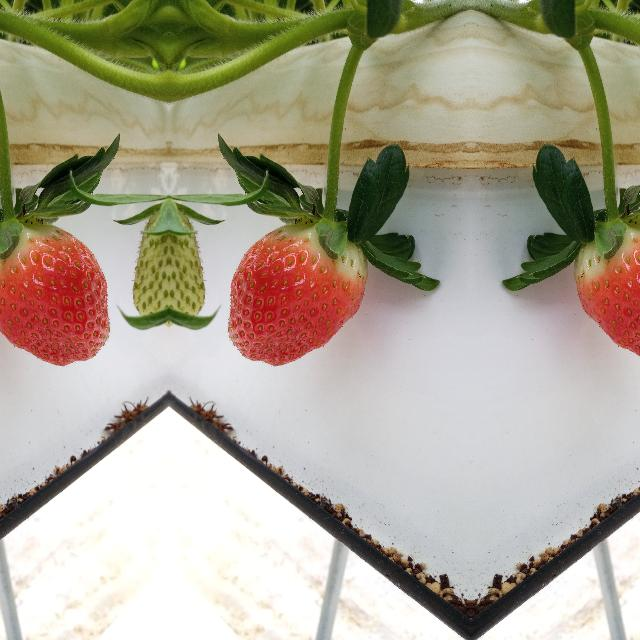Health_100: (227, 229, 366, 365), (0, 229, 109, 365), (575, 229, 640, 365)
